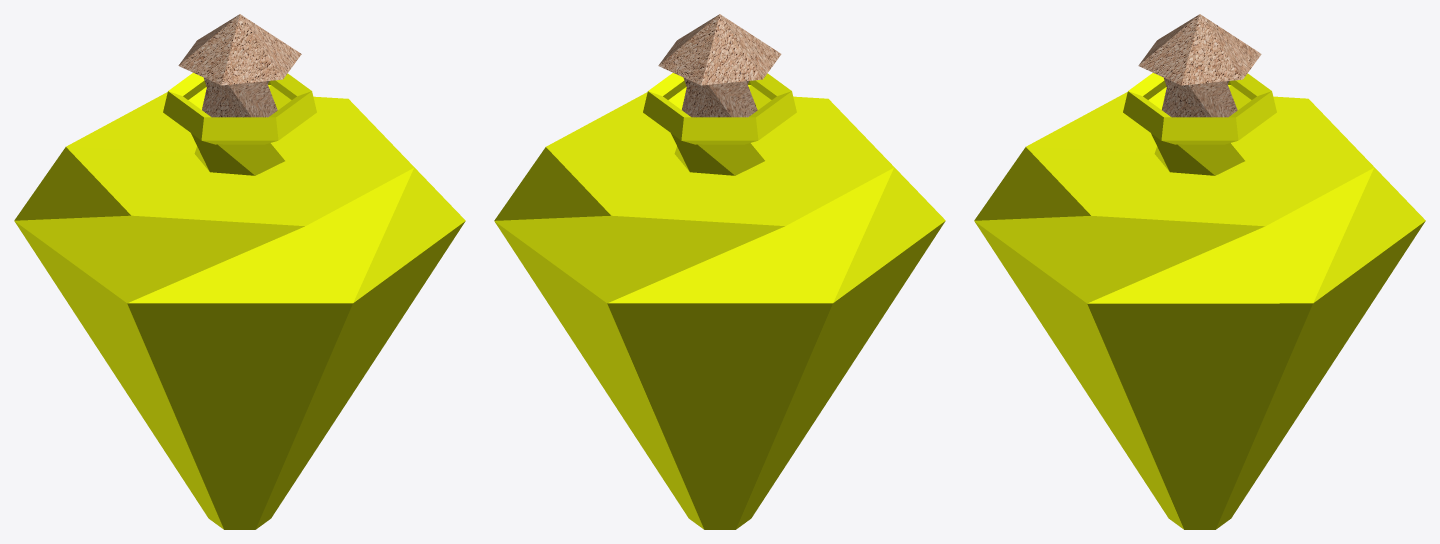
Rendered from health_potion.glb.
3 renders of one model, left to right at view 1: azimuth 30°, elevation 25°; view 2: azimuth 150°, elevation 25°; view 3: azimuth 270°, elevation 25°, orthographic.
Parts seen in each view (by area): view 1: Object_2, Object_4; view 2: Object_2, Object_4; view 3: Object_2, Object_4.
Part boxes in pixels (x1,y1,x2,y2): Object_2: [14, 72, 465, 529]; Object_4: [178, 14, 301, 117]; Object_2: [494, 73, 945, 529]; Object_4: [658, 14, 781, 117]; Object_2: [974, 73, 1425, 529]; Object_4: [1138, 14, 1261, 117].
Size of the model in its own units: 5.4 by 7.69 by 6.24.
4 materials, 1 textured.
